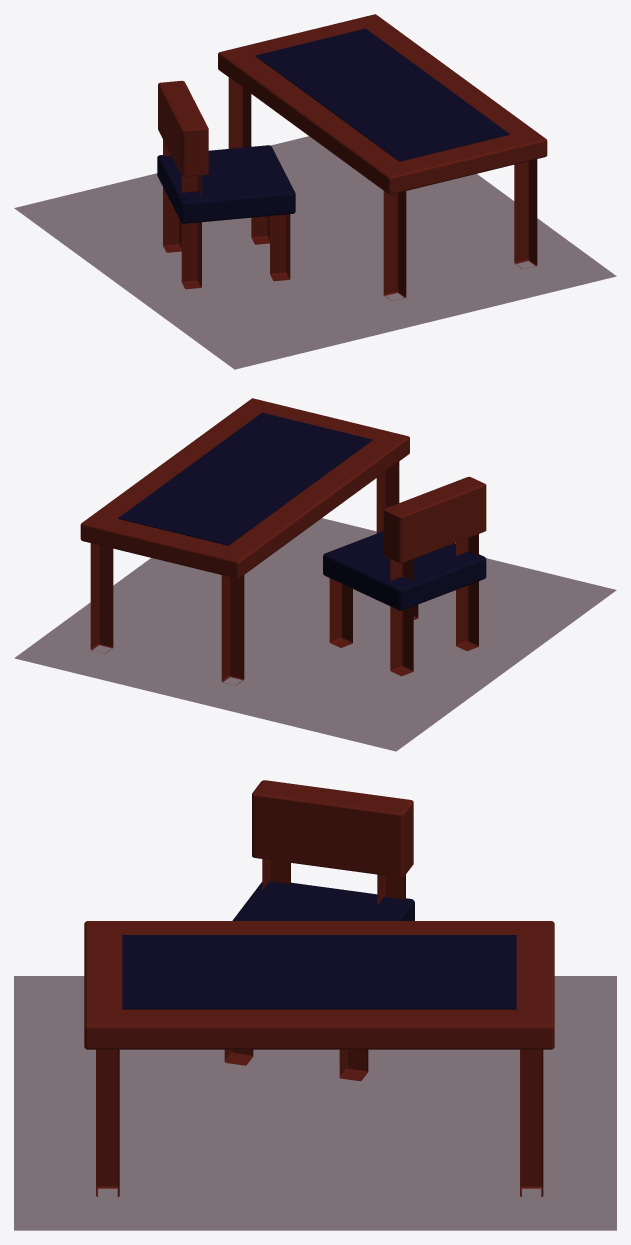
The model's file is desk.gltf.
The picture shows the model from 3 angles, top to bottom: view 1: azimuth 30°, elevation 25°; view 2: azimuth 150°, elevation 25°; view 3: azimuth 270°, elevation 25°; orthographic projection. The views are drawn at different scales.
Visible parts, largest first — view 1: Plane, Cube.006, Cube.008, Cube.007, Cube.003, Cube.002, Cube.010, Cube.001, Cube.011, Cube.005, Cube.009; view 2: Plane, Cube.006, Cube.008, Cube.007, Cube.001, Cube.004, Cube.005, Cube.010, Cube.009, Cube.003; view 3: Plane, Cube.006, Cube.007, Cube.008, Cube.002, Cube.004, Cube.009, Cube.005, Cube.010.
Part boxes in pixels (left/top/right/bottom): Plane: left=14, top=136, right=616, bottom=369; Cube.006: left=218, top=14, right=547, bottom=194; Cube.008: left=157, top=145, right=295, bottom=223; Cube.007: left=158, top=80, right=208, bottom=176; Cube.003: left=383, top=191, right=406, bottom=300; Cube.002: left=514, top=159, right=537, bottom=269; Cube.010: left=181, top=175, right=201, bottom=289; Cube.001: left=228, top=77, right=251, bottom=148; Cube.011: left=270, top=214, right=290, bottom=281; Cube.005: left=163, top=140, right=181, bottom=252; Cube.009: left=251, top=216, right=269, bottom=244; Plane: left=14, top=518, right=616, bottom=751; Cube.006: left=80, top=398, right=409, bottom=578; Cube.008: left=323, top=531, right=486, bottom=610; Cube.007: left=383, top=476, right=486, bottom=563; Cube.001: left=221, top=575, right=244, bottom=685; Cube.004: left=90, top=543, right=113, bottom=653; Cube.005: left=390, top=559, right=413, bottom=676; Cube.010: left=456, top=534, right=478, bottom=650; Cube.009: left=329, top=578, right=352, bottom=647; Cube.003: left=376, top=461, right=399, bottom=533; Plane: left=14, top=976, right=616, bottom=1230; Cube.006: left=84, top=921, right=554, bottom=1049; Cube.007: left=252, top=780, right=413, bottom=877; Cube.008: left=232, top=881, right=414, bottom=920; Cube.002: left=96, top=1049, right=119, bottom=1197; Cube.004: left=520, top=1049, right=543, bottom=1197; Cube.009: left=339, top=1049, right=368, bottom=1081; Cube.005: left=377, top=874, right=405, bottom=905; Cube.010: left=262, top=859, right=290, bottom=889.
Size of the model in its own units: 4.81 by 1.96 by 4.81.
